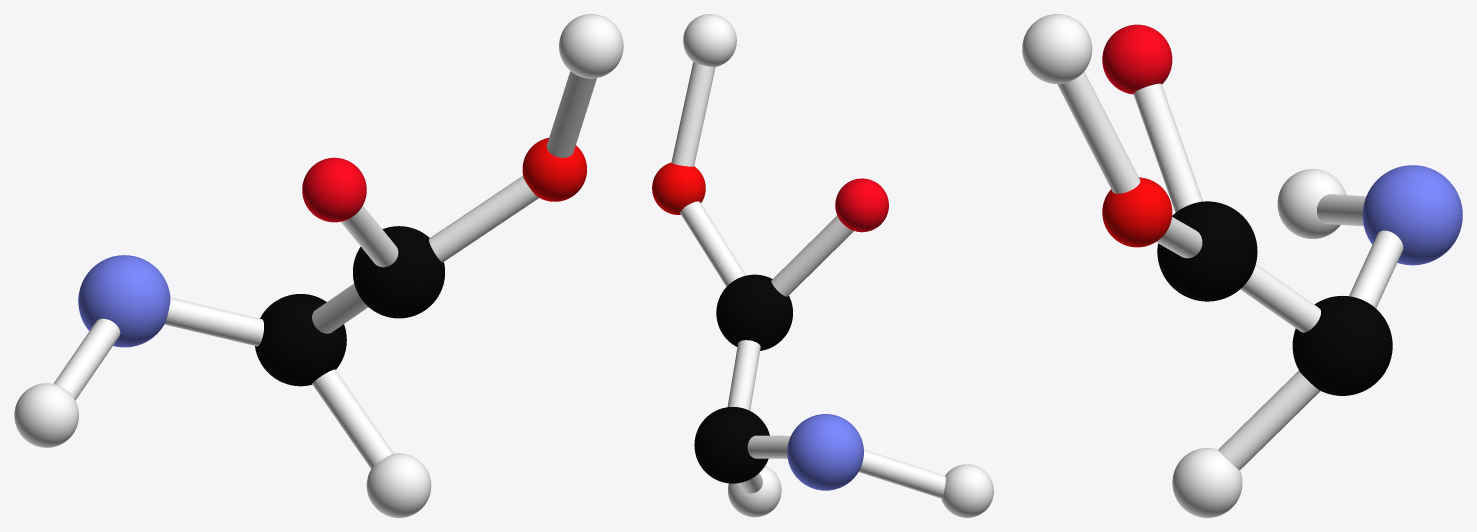
Rendered from Proline_main_ZOO.fbx.
The picture shows the model from 3 angles, left to right: view 1: azimuth 30°, elevation 25°; view 2: azimuth 150°, elevation 25°; view 3: azimuth 270°, elevation 25°; orthographic projection. The views are drawn at different scales.
Parts seen in each view (by area): view 1: 프롤린나머지; view 2: 프롤린나머지; view 3: 프롤린나머지.
Boxes of the visible parts, left/top/right/bottom form: 프롤린나머지: left=14, top=14, right=623, bottom=517; 프롤린나머지: left=652, top=14, right=993, bottom=517; 프롤린나머지: left=1022, top=14, right=1462, bottom=517.
Size of the model in its own units: 360 by 369 by 262.
